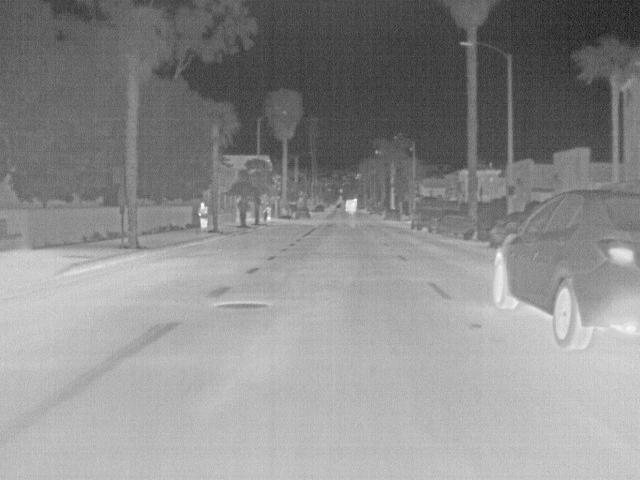car: (489, 188, 640, 350), (426, 210, 476, 240), (489, 212, 526, 247), (410, 208, 438, 233), (293, 207, 312, 221), (385, 208, 400, 222)
person: (197, 200, 210, 232), (265, 206, 273, 222)
